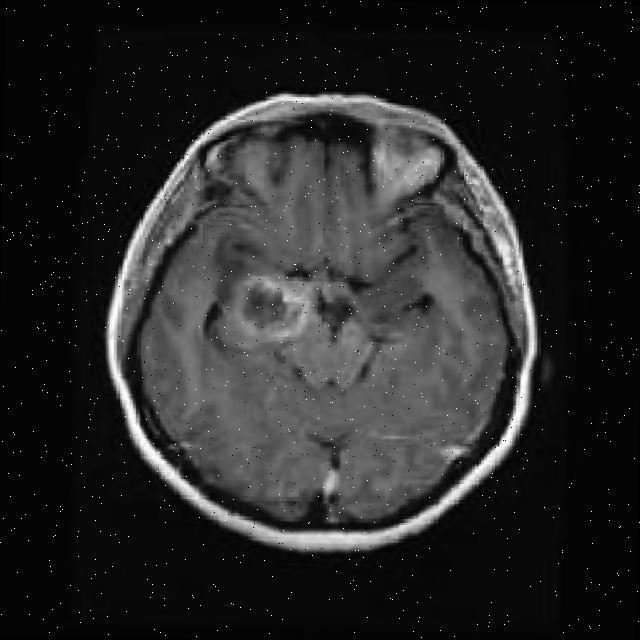EMCI: (200, 241, 284, 322)
